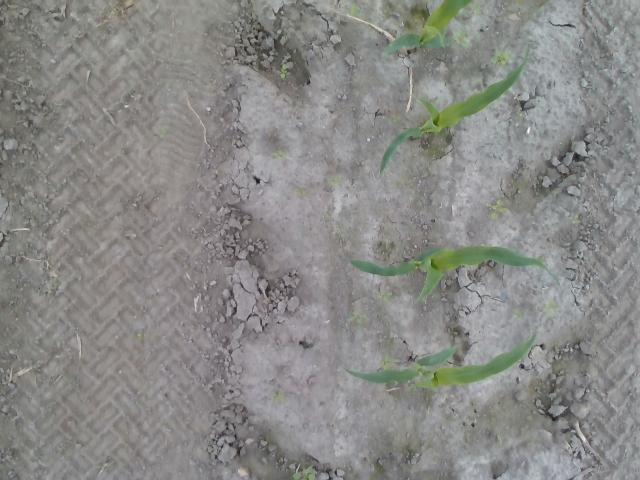Maize: (376, 43, 532, 173), (348, 245, 556, 303), (342, 333, 537, 394), (381, 0, 474, 58)
Weeds: (485, 199, 511, 219), (489, 46, 514, 66), (292, 464, 318, 480), (452, 30, 472, 49), (544, 302, 561, 319), (270, 148, 290, 161), (377, 287, 392, 304), (381, 354, 395, 372), (348, 312, 367, 324), (278, 64, 288, 80), (346, 4, 359, 15), (568, 214, 582, 224)
